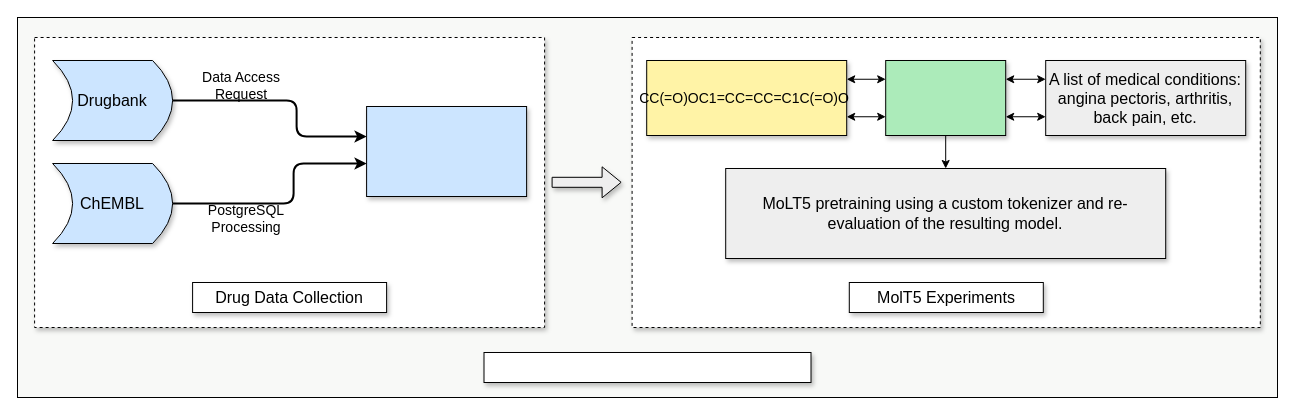
Image size: 1295x415. Some labels were removed from this diagram. The centre of each missing label's shape, as x and y in pixels:
"MolT5" goes at pixel 946 99.
"Pipeline for LLM Experiments" goes at pixel 648 369.
"SMILES - Drug Indication Pairs" goes at pixel 447 153.
